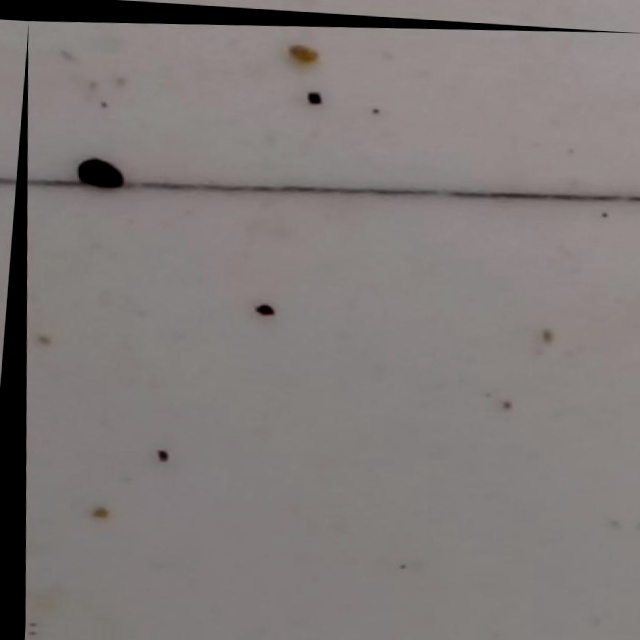varroa: (69, 153, 125, 193)
